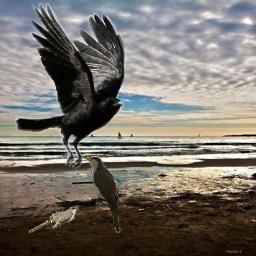Crow: (15, 3, 127, 172)
Cuckoo: (83, 155, 122, 234), (28, 206, 80, 233)
